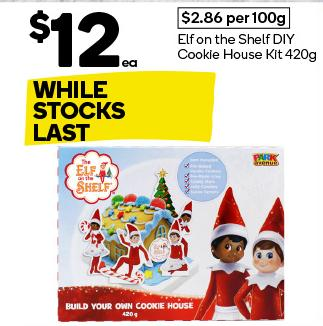description_block: (170, 32, 320, 66)
price_main: (21, 6, 148, 74)
product_image_block: (45, 144, 292, 324)
promo_text_block: (18, 72, 219, 144)
unit_price_block: (176, 3, 292, 31)
